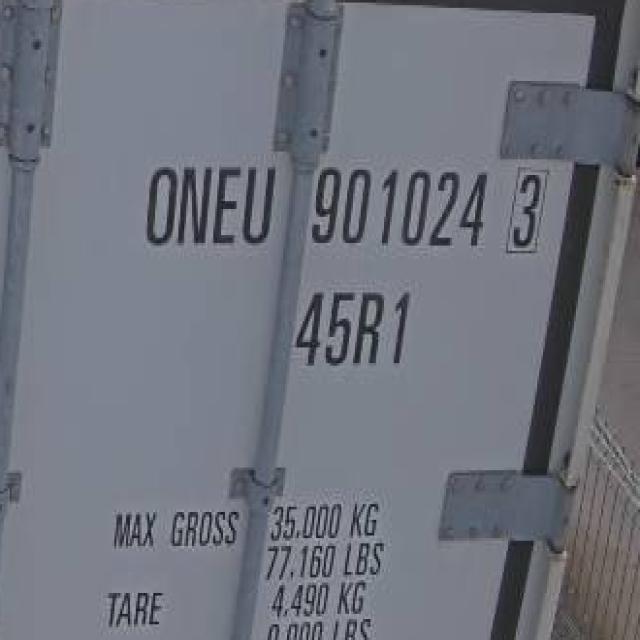dv: (501, 158, 551, 271)
owner: (136, 149, 278, 259)
serial: (311, 150, 492, 264)
size: (292, 280, 418, 372)
